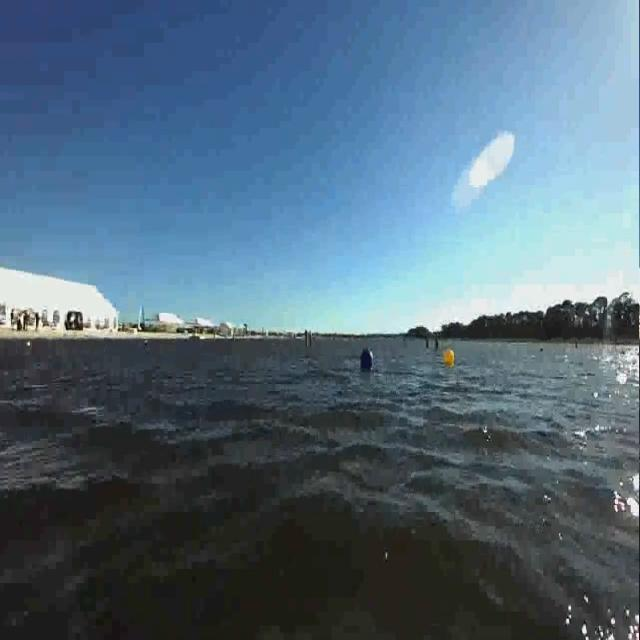blue-buoy: (358, 347, 372, 371)
yellow-buoy: (444, 348, 456, 368)
